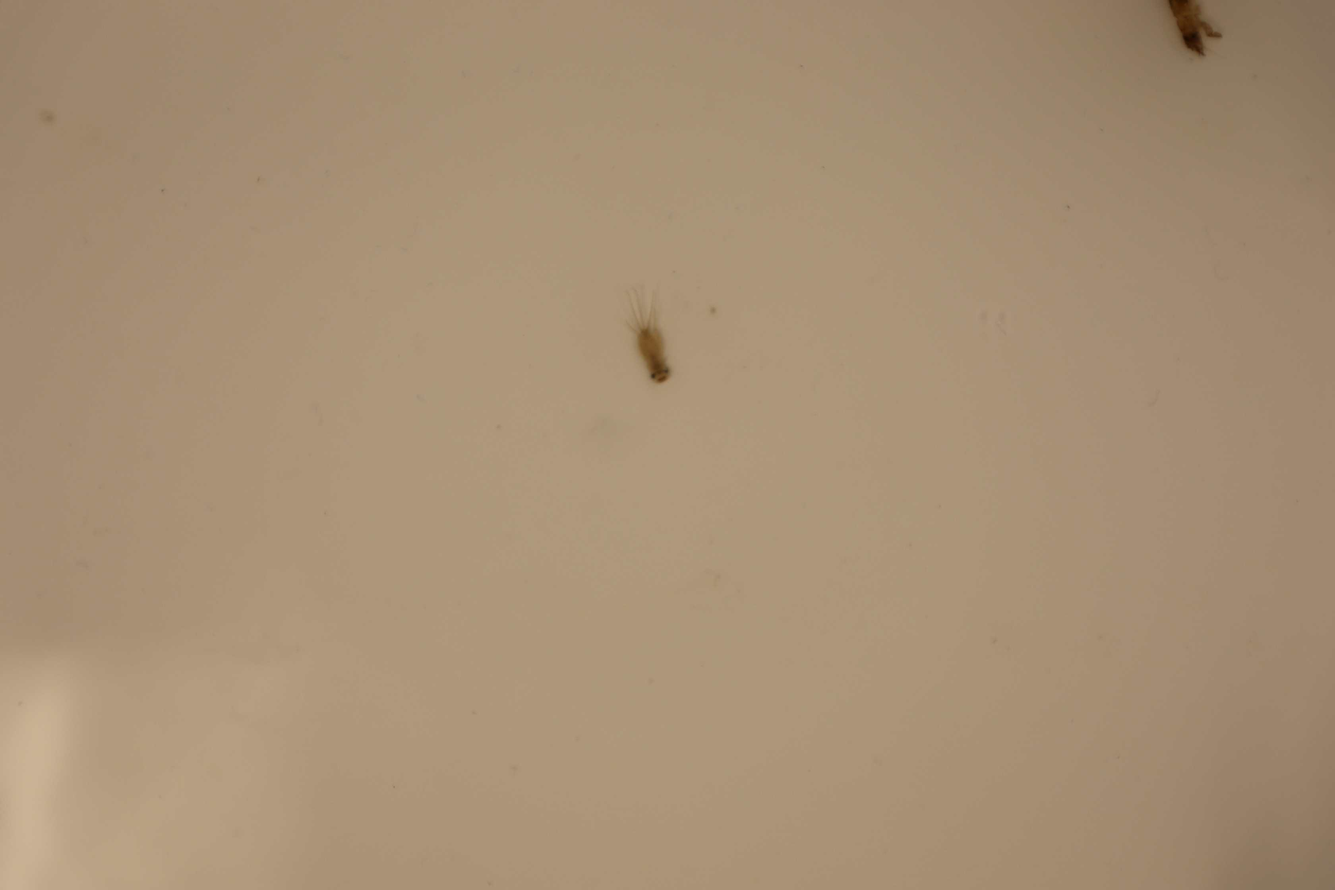Mayfly: (613, 280, 680, 387), (1162, 0, 1224, 68)
